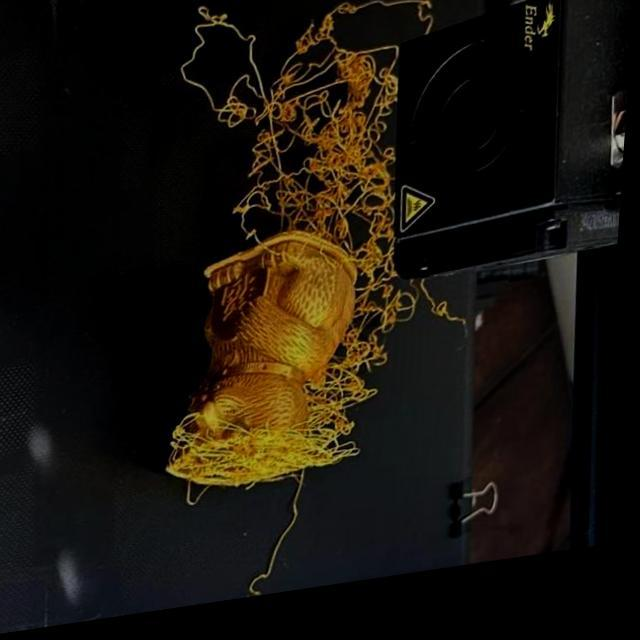spaghetti: (309, 96, 398, 233), (241, 161, 336, 241), (321, 332, 397, 428), (252, 101, 326, 179), (292, 18, 345, 87), (343, 1, 438, 31), (214, 98, 272, 145), (185, 20, 217, 90)
